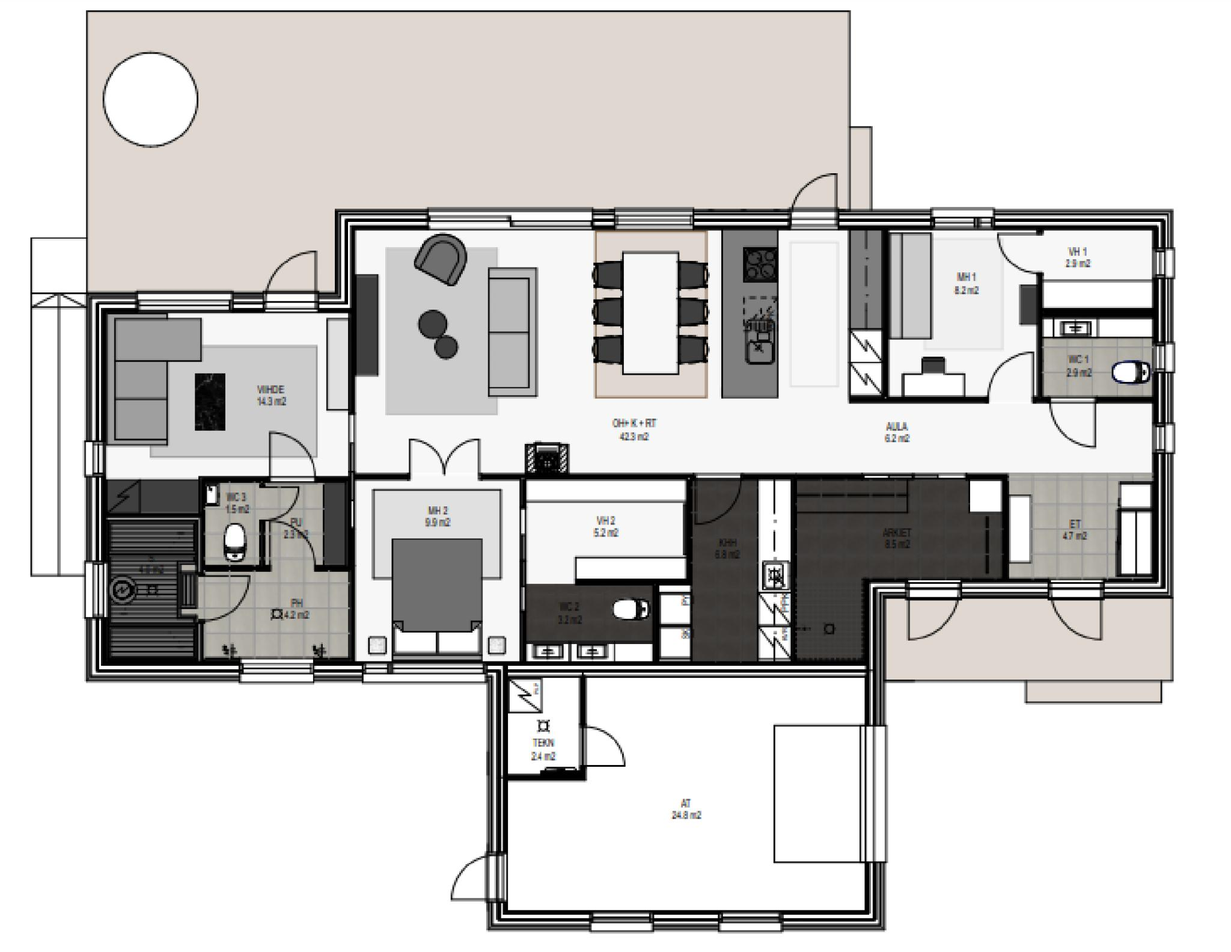door: (898, 581, 962, 646), (261, 243, 318, 312), (1050, 581, 1111, 642), (448, 851, 514, 905), (1044, 394, 1105, 451), (407, 437, 483, 482), (198, 570, 256, 624), (690, 471, 743, 527), (269, 518, 322, 574), (788, 170, 837, 229), (984, 347, 1033, 406), (265, 430, 315, 484), (587, 725, 638, 777), (998, 232, 1055, 275), (261, 481, 307, 521)
window: (366, 659, 484, 687), (132, 287, 235, 312), (612, 206, 690, 229), (237, 659, 311, 683), (588, 908, 651, 936), (724, 906, 781, 936), (932, 203, 992, 224), (85, 438, 110, 485), (429, 210, 510, 223), (87, 562, 104, 612), (1150, 251, 1171, 279), (1152, 425, 1172, 451), (1159, 341, 1174, 372)
zone: (88, 10, 847, 295), (350, 231, 1151, 478), (507, 673, 864, 913), (110, 309, 352, 662), (796, 480, 1012, 667), (521, 476, 691, 666), (353, 477, 518, 659), (886, 590, 1170, 686), (207, 476, 349, 660), (684, 478, 786, 659), (1008, 478, 1150, 574)
